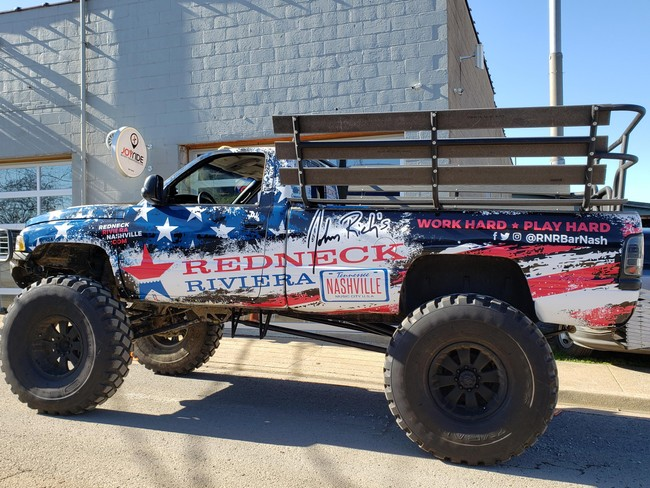Truck: (5, 147, 646, 466)
